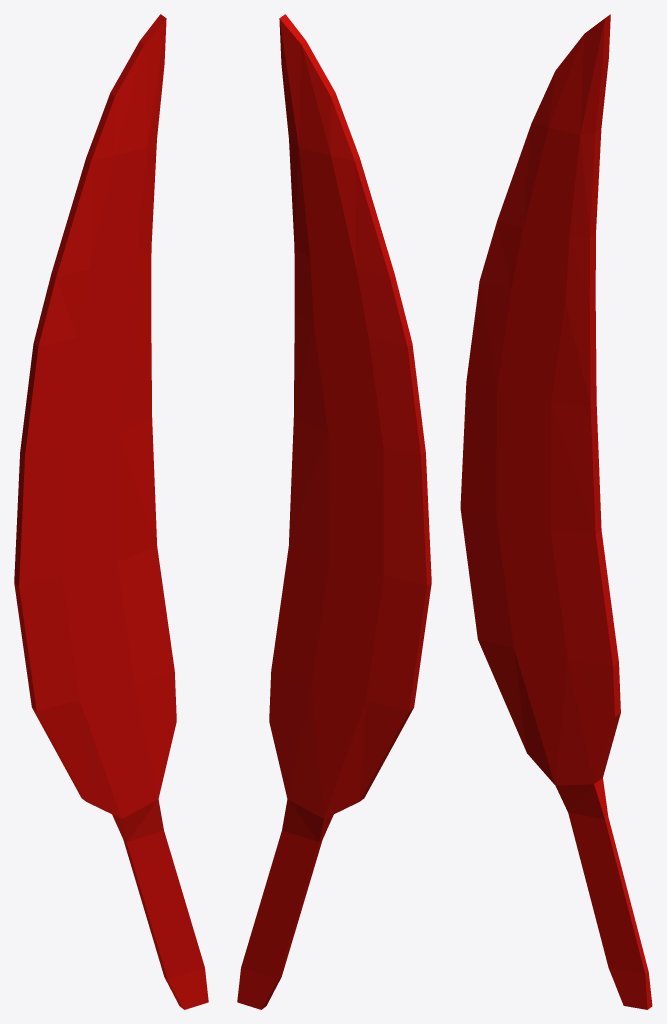
The model's file is pena.fbx.
3 views of the same model, side by side, from view 1: azimuth 30°, elevation 25°; view 2: azimuth 150°, elevation 25°; view 3: azimuth 330°, elevation 25° (orthographic).
Visible parts, largest first — view 1: Plane; view 2: Plane; view 3: Plane.
Boxes of the visible parts, <box> form: Plane: <box>14,14,208,1009</box>; Plane: <box>237,14,431,1009</box>; Plane: <box>460,14,652,1009</box>.
Bounding box in the file's own units: 27.47 × 138 × 2.86.
